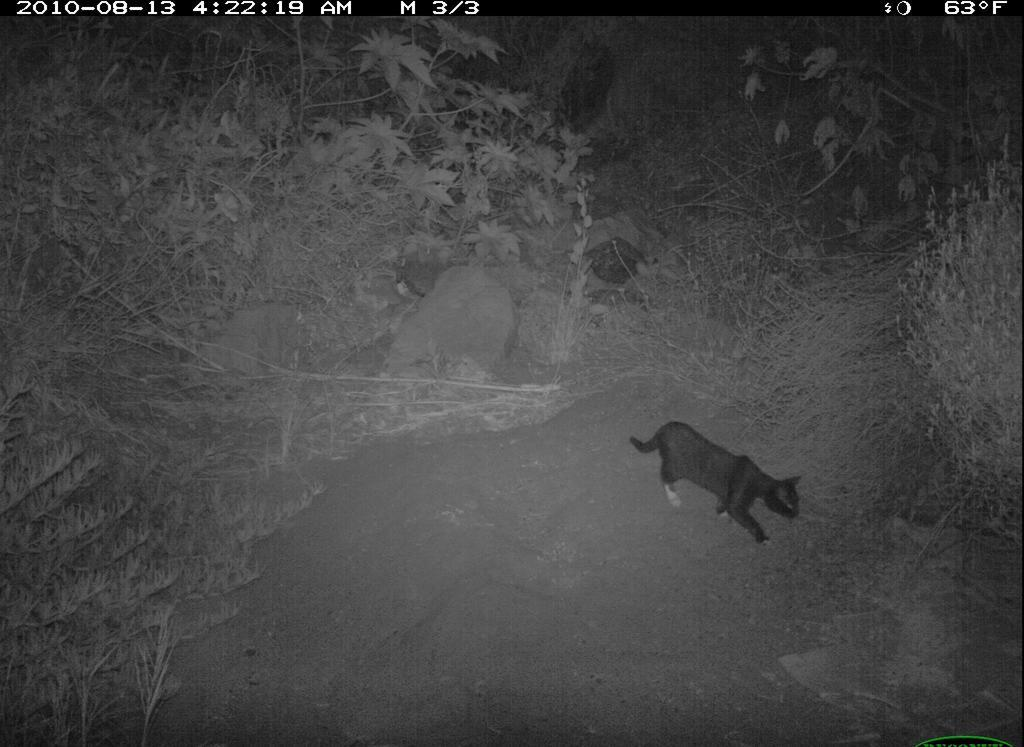cat: (626, 405, 818, 557)
